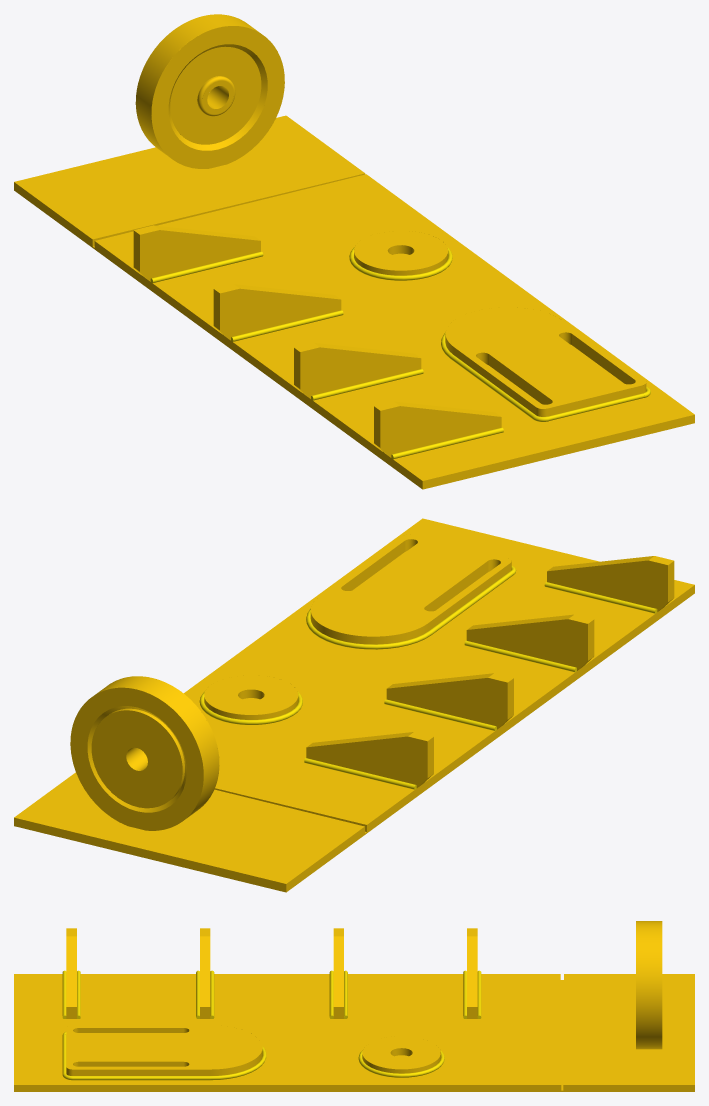
3 renders of one model, top to bottom at view 1: azimuth 30°, elevation 25°; view 2: azimuth 150°, elevation 25°; view 3: azimuth 270°, elevation 25°, orthographic. The views are drawn at different scales.
Parts seen in each view (by area): view 1: gongjian1; view 2: gongjian1; view 3: gongjian1.
Boxes of the visible parts, bbox=[...] form: gongjian1: bbox=[14, 14, 694, 489]; gongjian1: bbox=[14, 518, 694, 892]; gongjian1: bbox=[14, 921, 694, 1091].
Bounding box in the file's own units: 20.8 × 10.35 × 52.
